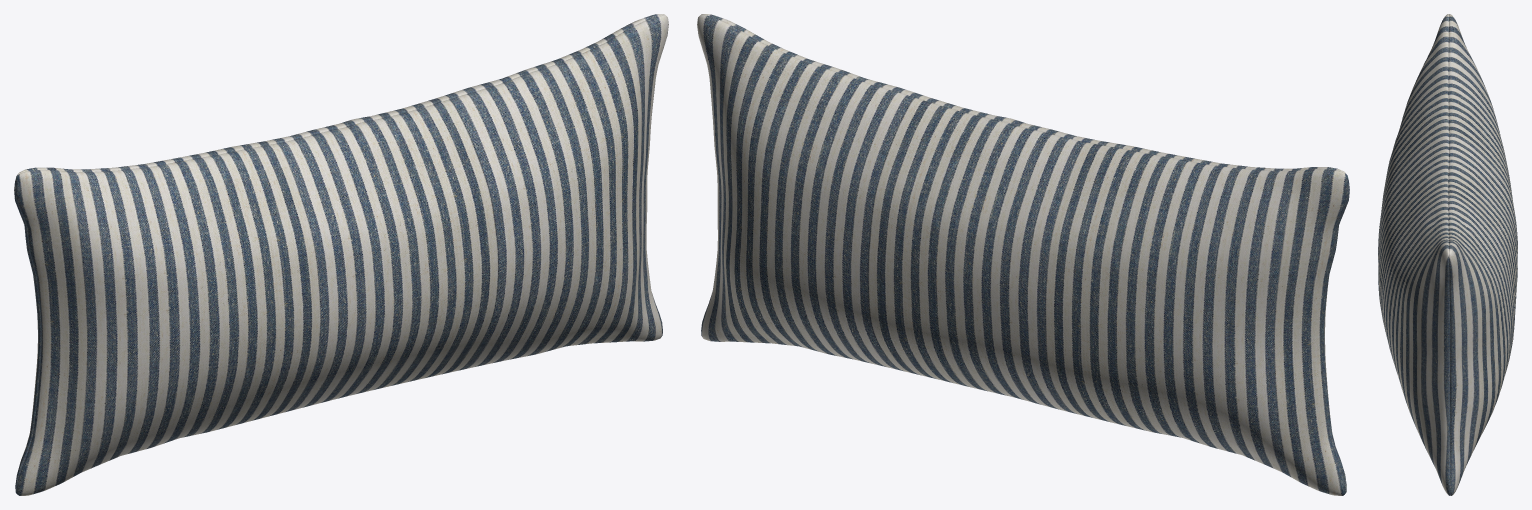
The model's file is abo_B07MBFF1K5.glb.
3 renders of one model, left to right at view 1: azimuth 30°, elevation 25°; view 2: azimuth 150°, elevation 25°; view 3: azimuth 270°, elevation 25°, orthographic. The views are drawn at different scales.
Visible parts, largest first — view 1: RootNode; view 2: RootNode; view 3: RootNode.
Boxes of the visible parts, x1,y1,x2,y2 form: RootNode: (14, 14, 668, 495); RootNode: (697, 14, 1349, 495); RootNode: (1378, 14, 1517, 495).
Bounding box in the file's own units: 0.6172 × 0.2948 × 0.1507.
1 material, 1 textured.
